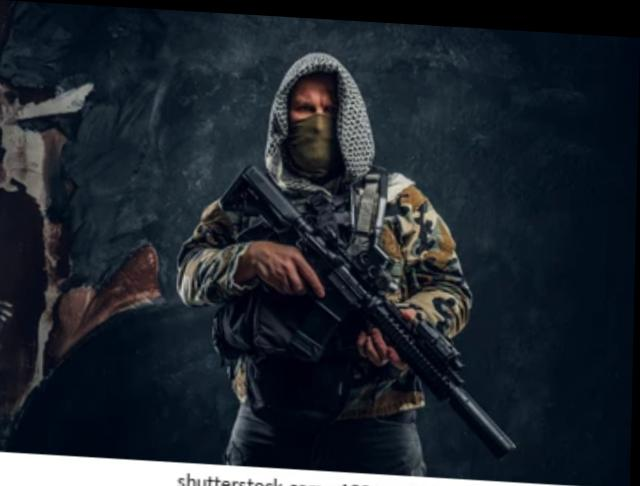other: (212, 65, 448, 467)
